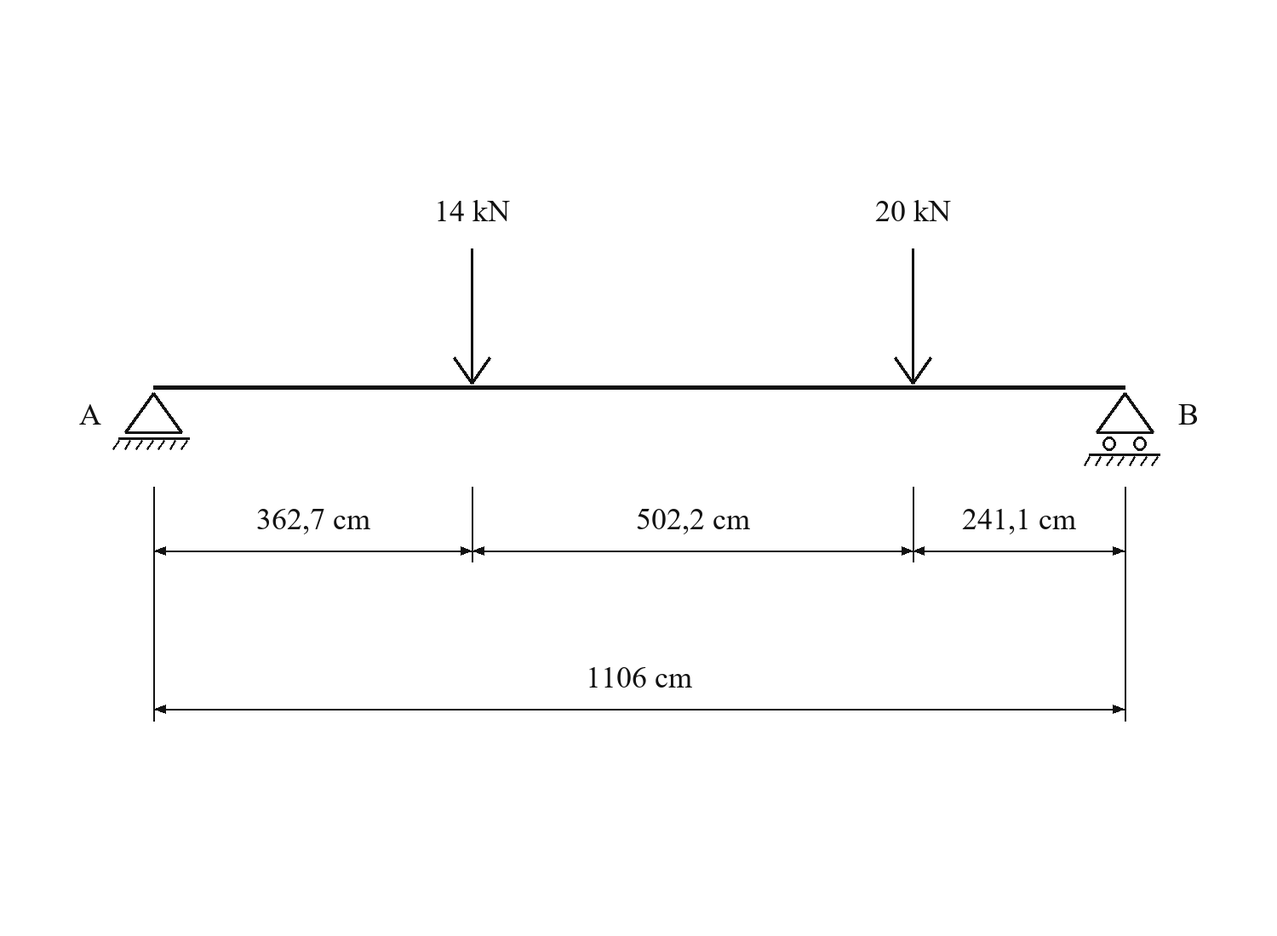pin_support: (112, 392, 190, 450)
point_load: (453, 248, 491, 385), (894, 248, 932, 385)
roller_support: (1084, 392, 1160, 466)
